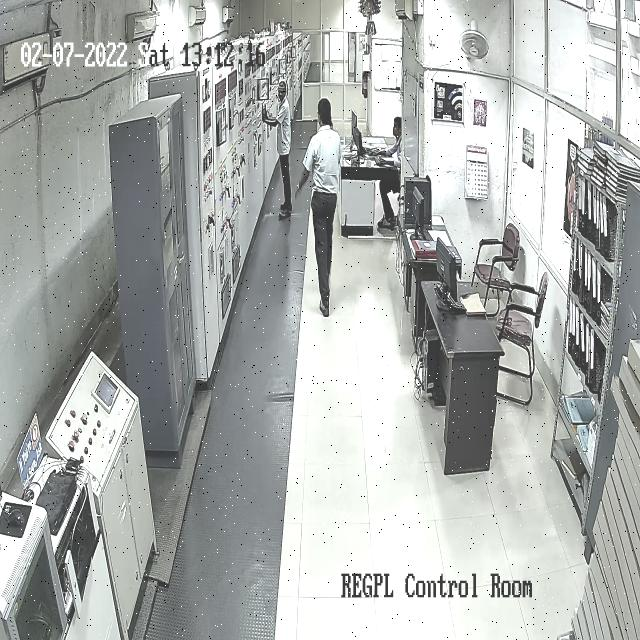Boots: (378, 215, 394, 230), (319, 298, 329, 317), (278, 210, 291, 219), (280, 203, 292, 211)
